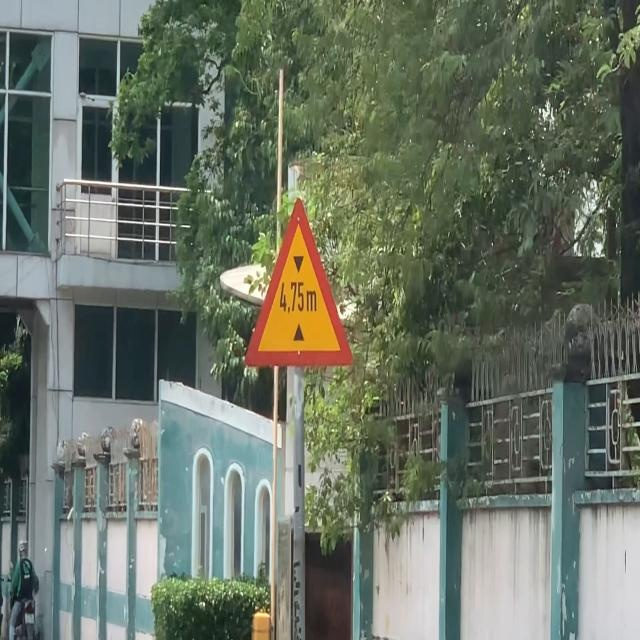bien_nguy_hiem: (244, 197, 353, 367)
